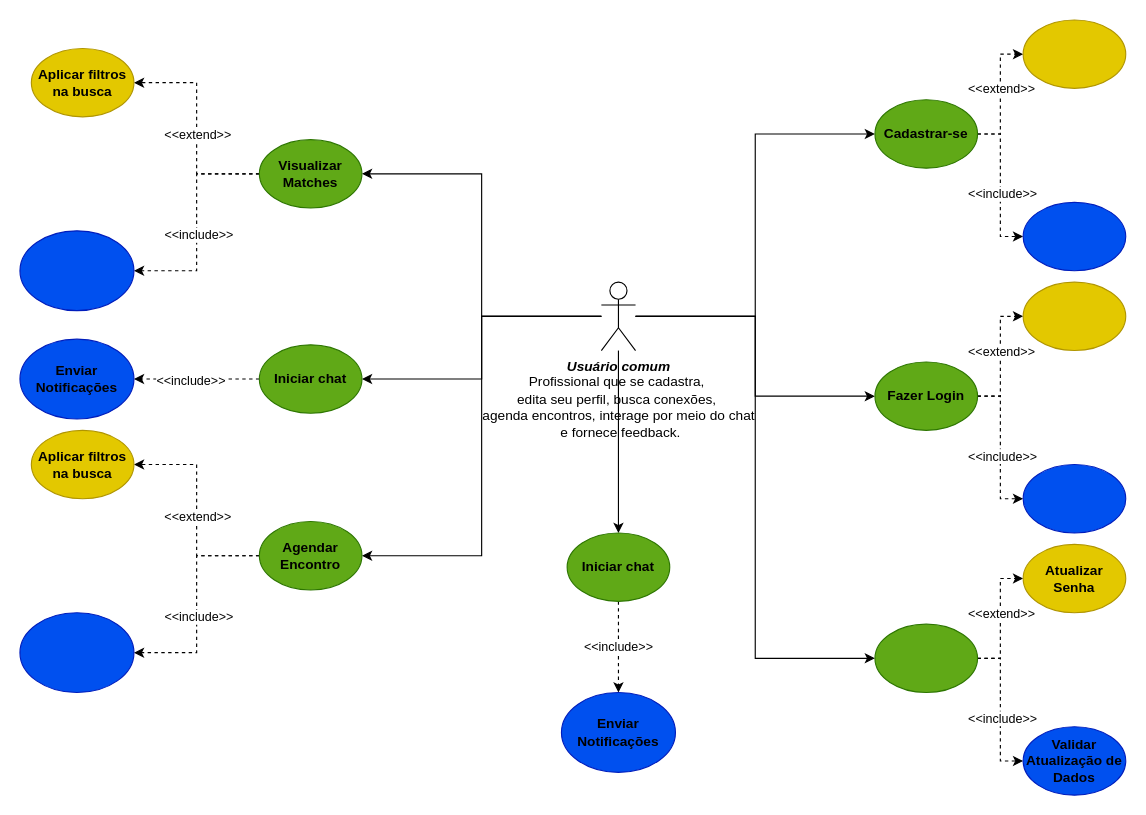
This 1146x815 diagram has some shape labels left out. Here are the shapes that lost their labels. From the top down, the centre of each, then its label:
At pixel 1074 53: "Criptografar Senha".
At pixel 1074 236: "Validar Dados do Formulário".
At pixel 76 270: "Executar algoritmo de Matmacking".
At pixel 1074 316: "Recuperar Senha".
At pixel 1074 498: "Validar Credenciais".
At pixel 76 652: "Selecionar Data, Hora e Local".
At pixel 926 658: "Editar perfil".
